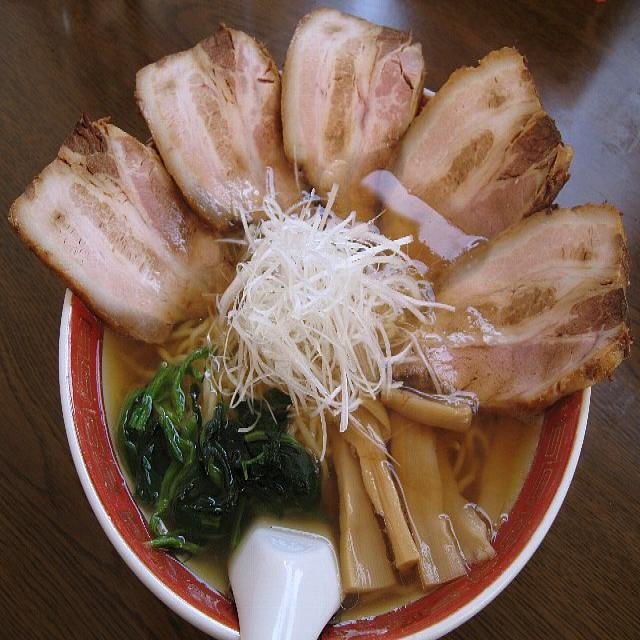面条主食: (14, 8, 629, 605)
